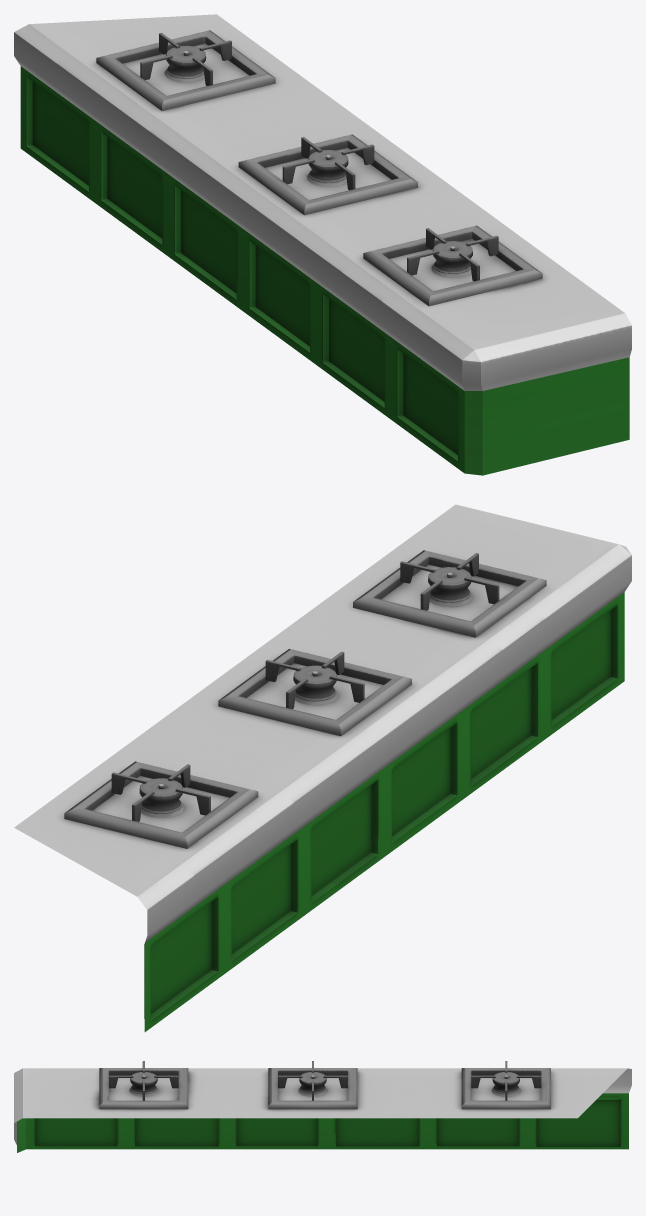
File: kitchen.fbx
3 views of the same model, one above another, from view 1: azimuth 30°, elevation 25°; view 2: azimuth 150°, elevation 25°; view 3: azimuth 270°, elevation 25° (orthographic). The views are drawn at different scales.
Visible parts, largest first — view 1: kitchen; view 2: kitchen; view 3: kitchen.
Part boxes in pixels (bbox=[...]): kitchen: bbox=[14, 14, 631, 475]; kitchen: bbox=[14, 504, 631, 1031]; kitchen: bbox=[14, 1061, 631, 1152].
Bounding box in the file's own units: 4.11 × 3.49 × 19.89.
